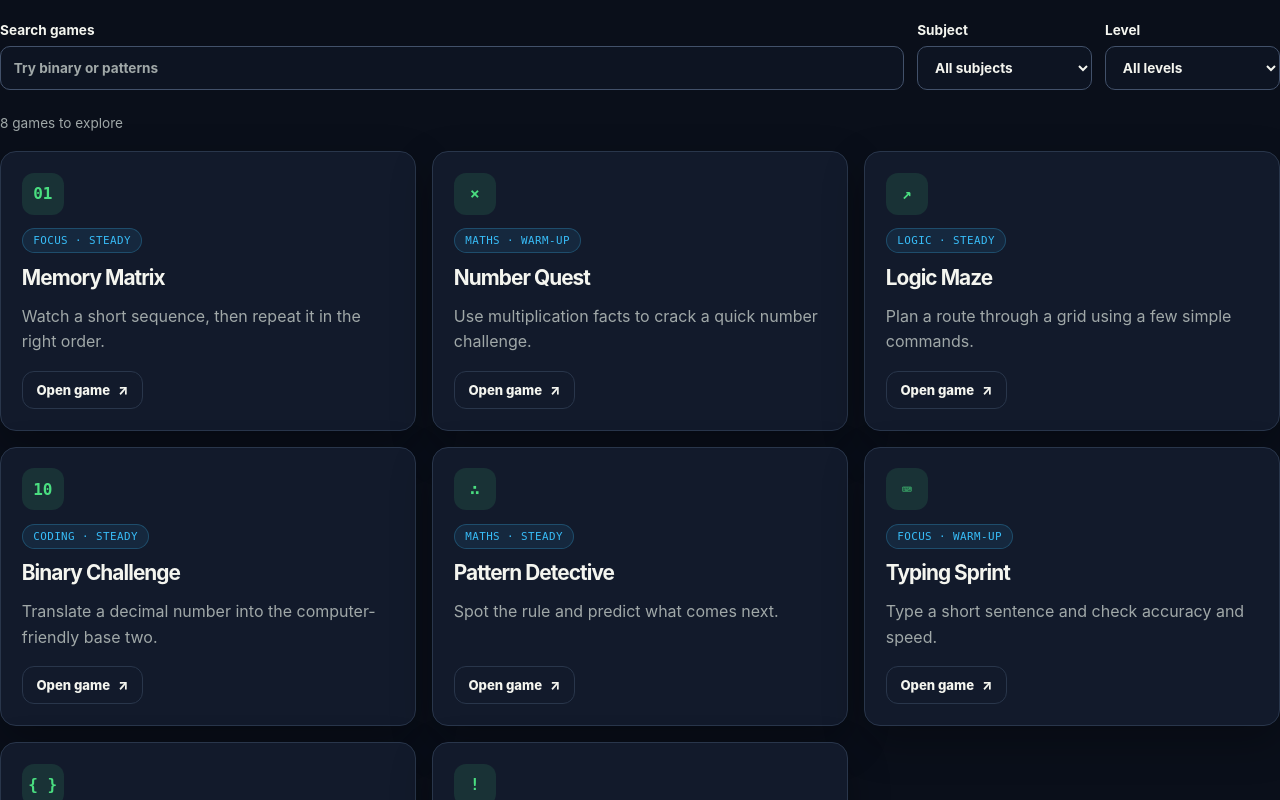
GameCatalog › filters by difficulty level
Select "Warm-up" in the dropdown labelled "Level" at (1192, 68), box top-left (1105, 46), bottom-right (1279, 90)
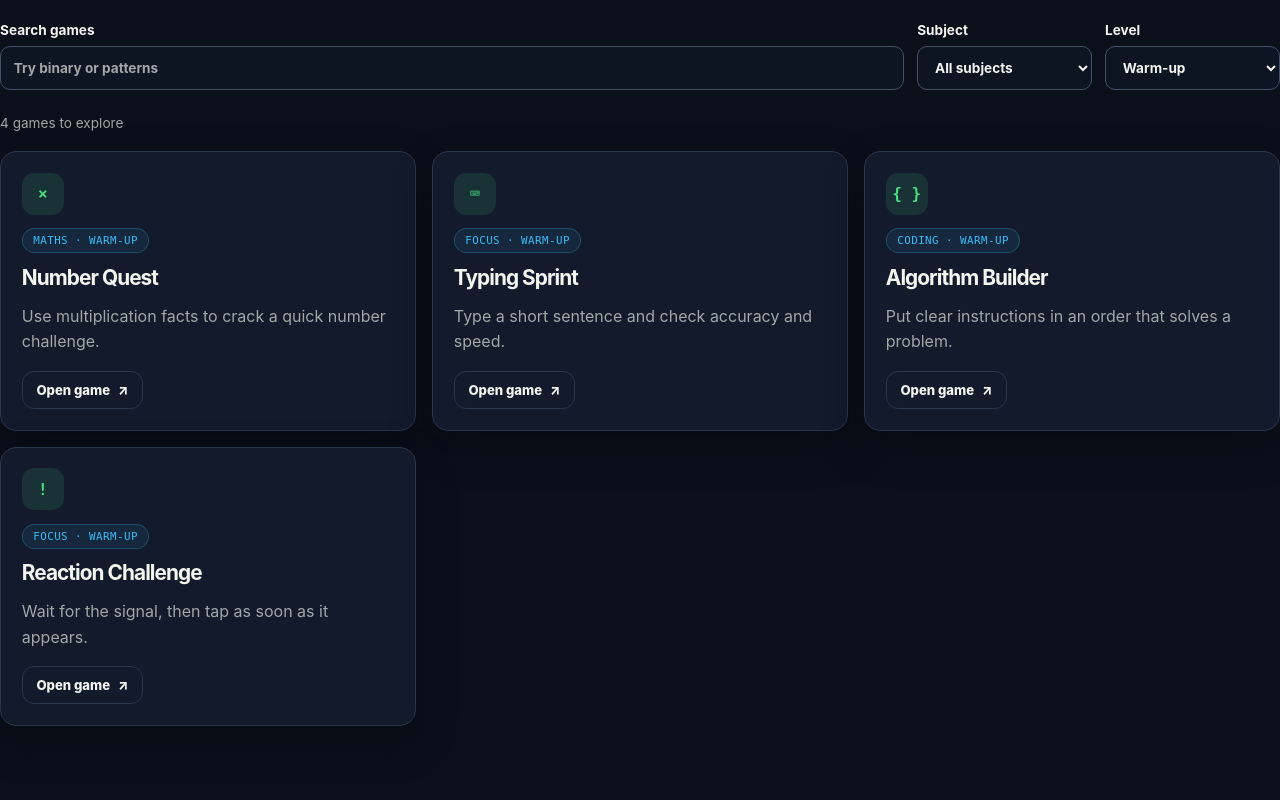
Expected: the heading "Number Quest" is shown, top-left (22, 266), bottom-right (158, 289)
Now the heading "Logic Maze" is gone
